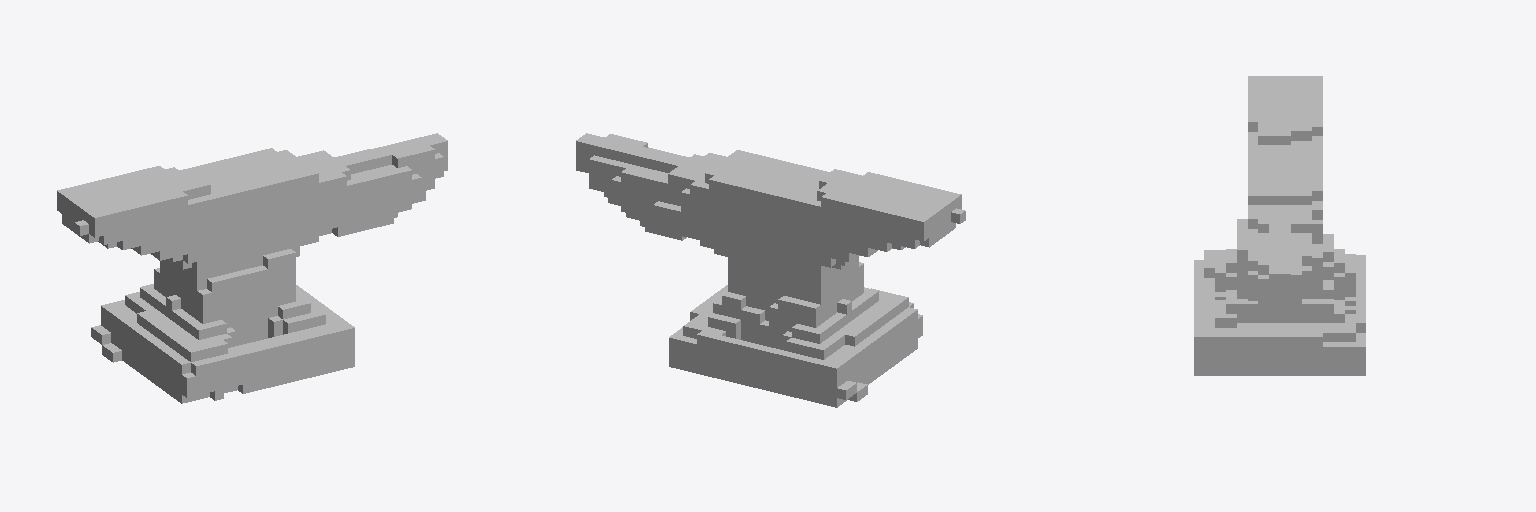
The model's file is VAnvil.obj.
3 views of the same model, side by side, from view 1: azimuth 30°, elevation 25°; view 2: azimuth 150°, elevation 25°; view 3: azimuth 270°, elevation 25° (orthographic).
Visible parts, largest first — view 1: Anvil; view 2: Anvil; view 3: Anvil.
Part boxes in pixels (x1,y1,x2,y2): Anvil: (57, 133, 447, 403); Anvil: (576, 133, 965, 407); Anvil: (1194, 76, 1365, 375).
Bounding box in the file's own units: 0.381 × 0.181 × 0.1524.